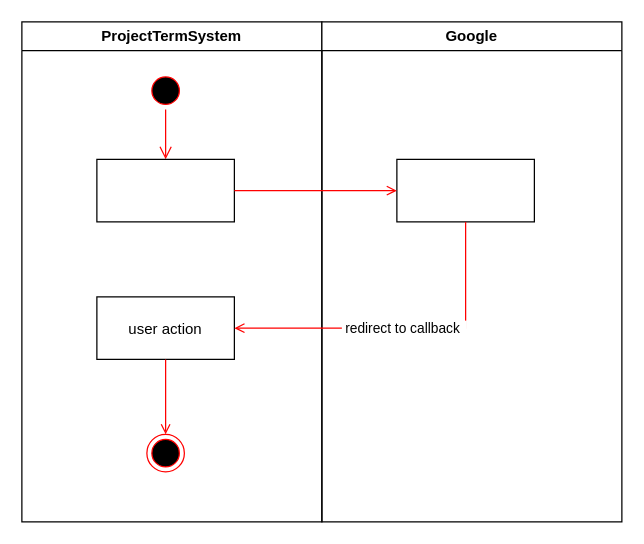
This 644x544 diagram has some shape labels left out. Each missing label, with the centre of its shape:
Allow login? (input account/password): point 465,190
Login with Google: point 165,190
